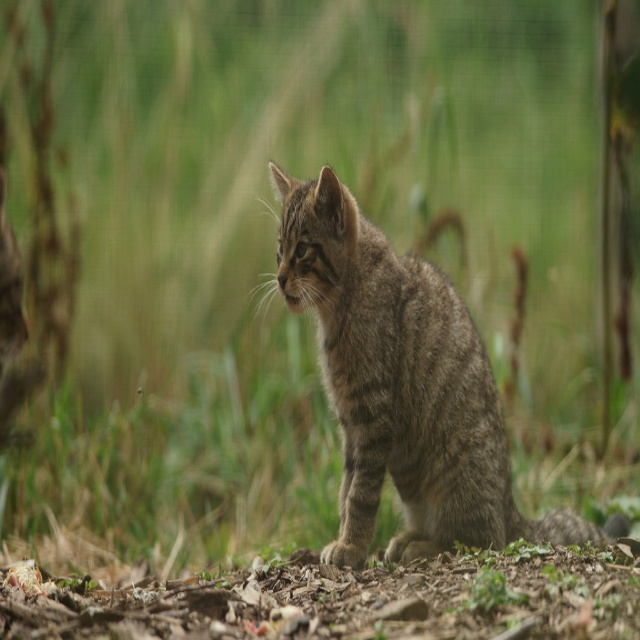Lynx: (248, 159, 634, 575)
